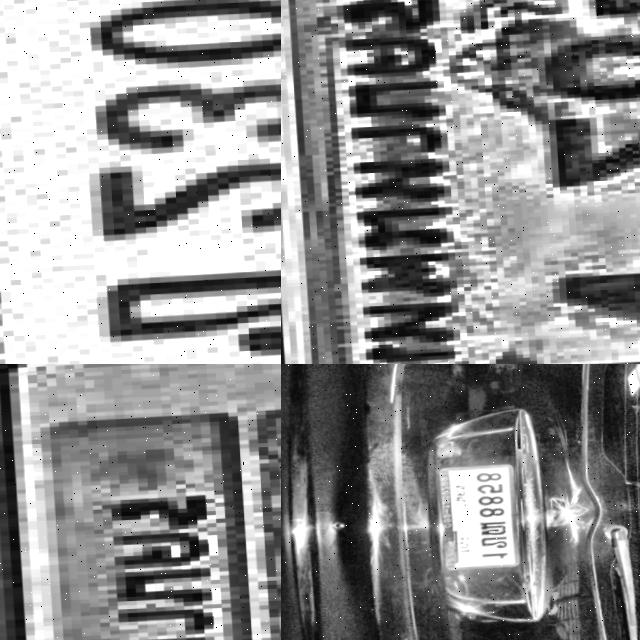license-plate: (281, 0, 640, 364), (0, 0, 281, 364), (6, 364, 281, 640), (433, 463, 519, 573)
